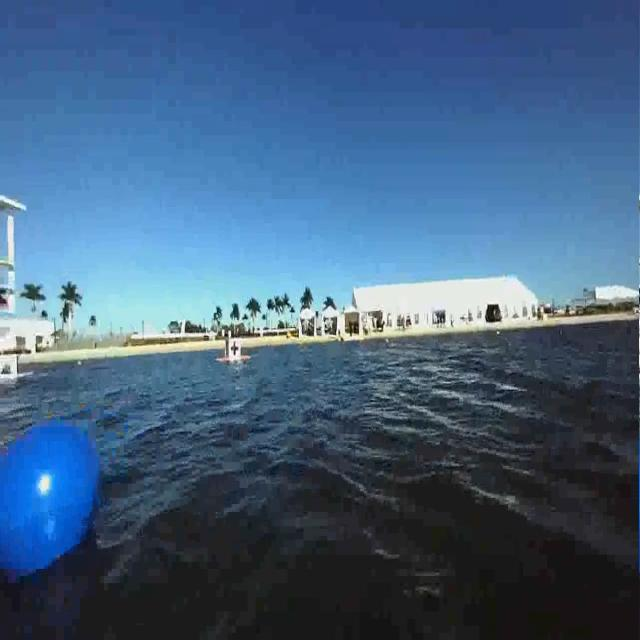blue-buoy: (4, 402, 110, 602)
